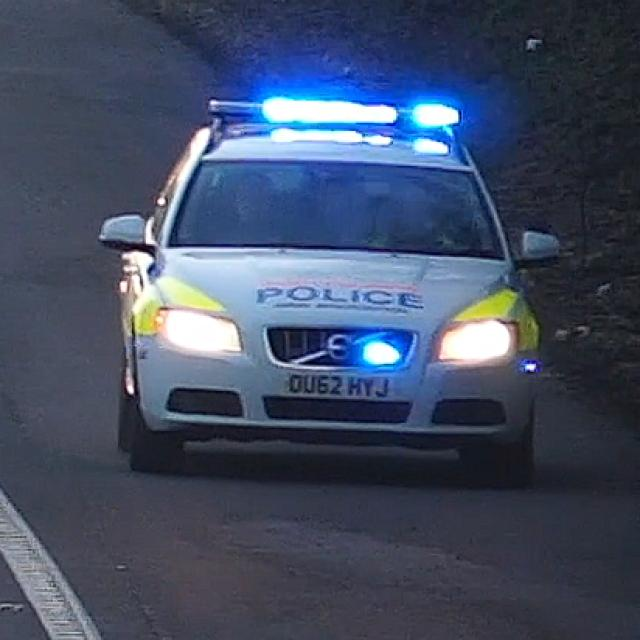emergency lights: (185, 79, 521, 192), (362, 330, 422, 379)
